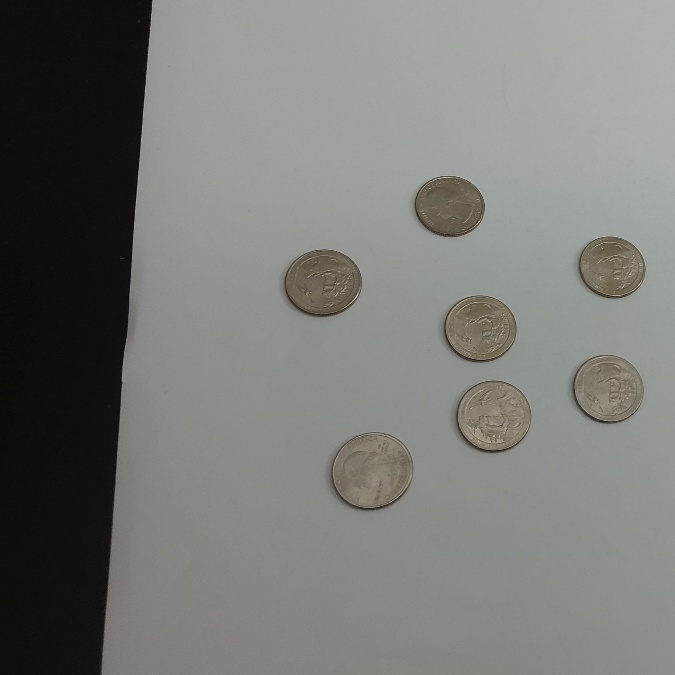coin_quarter: (327, 425, 416, 513), (567, 351, 648, 429), (454, 379, 535, 457), (437, 289, 521, 364), (571, 229, 655, 304), (284, 244, 361, 314), (411, 167, 488, 237)
